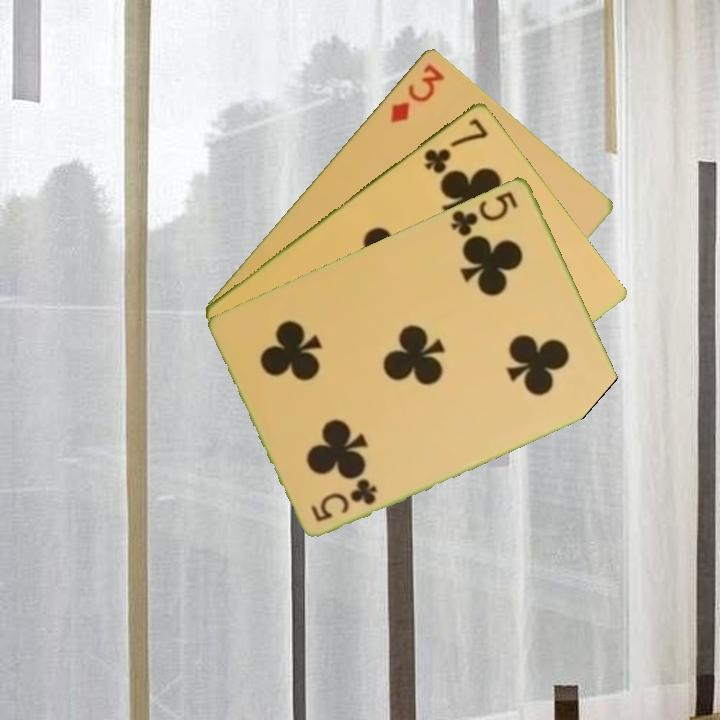3d: (386, 59, 447, 126)
5c: (447, 187, 521, 239), (307, 475, 381, 524)
7c: (420, 114, 491, 176)
